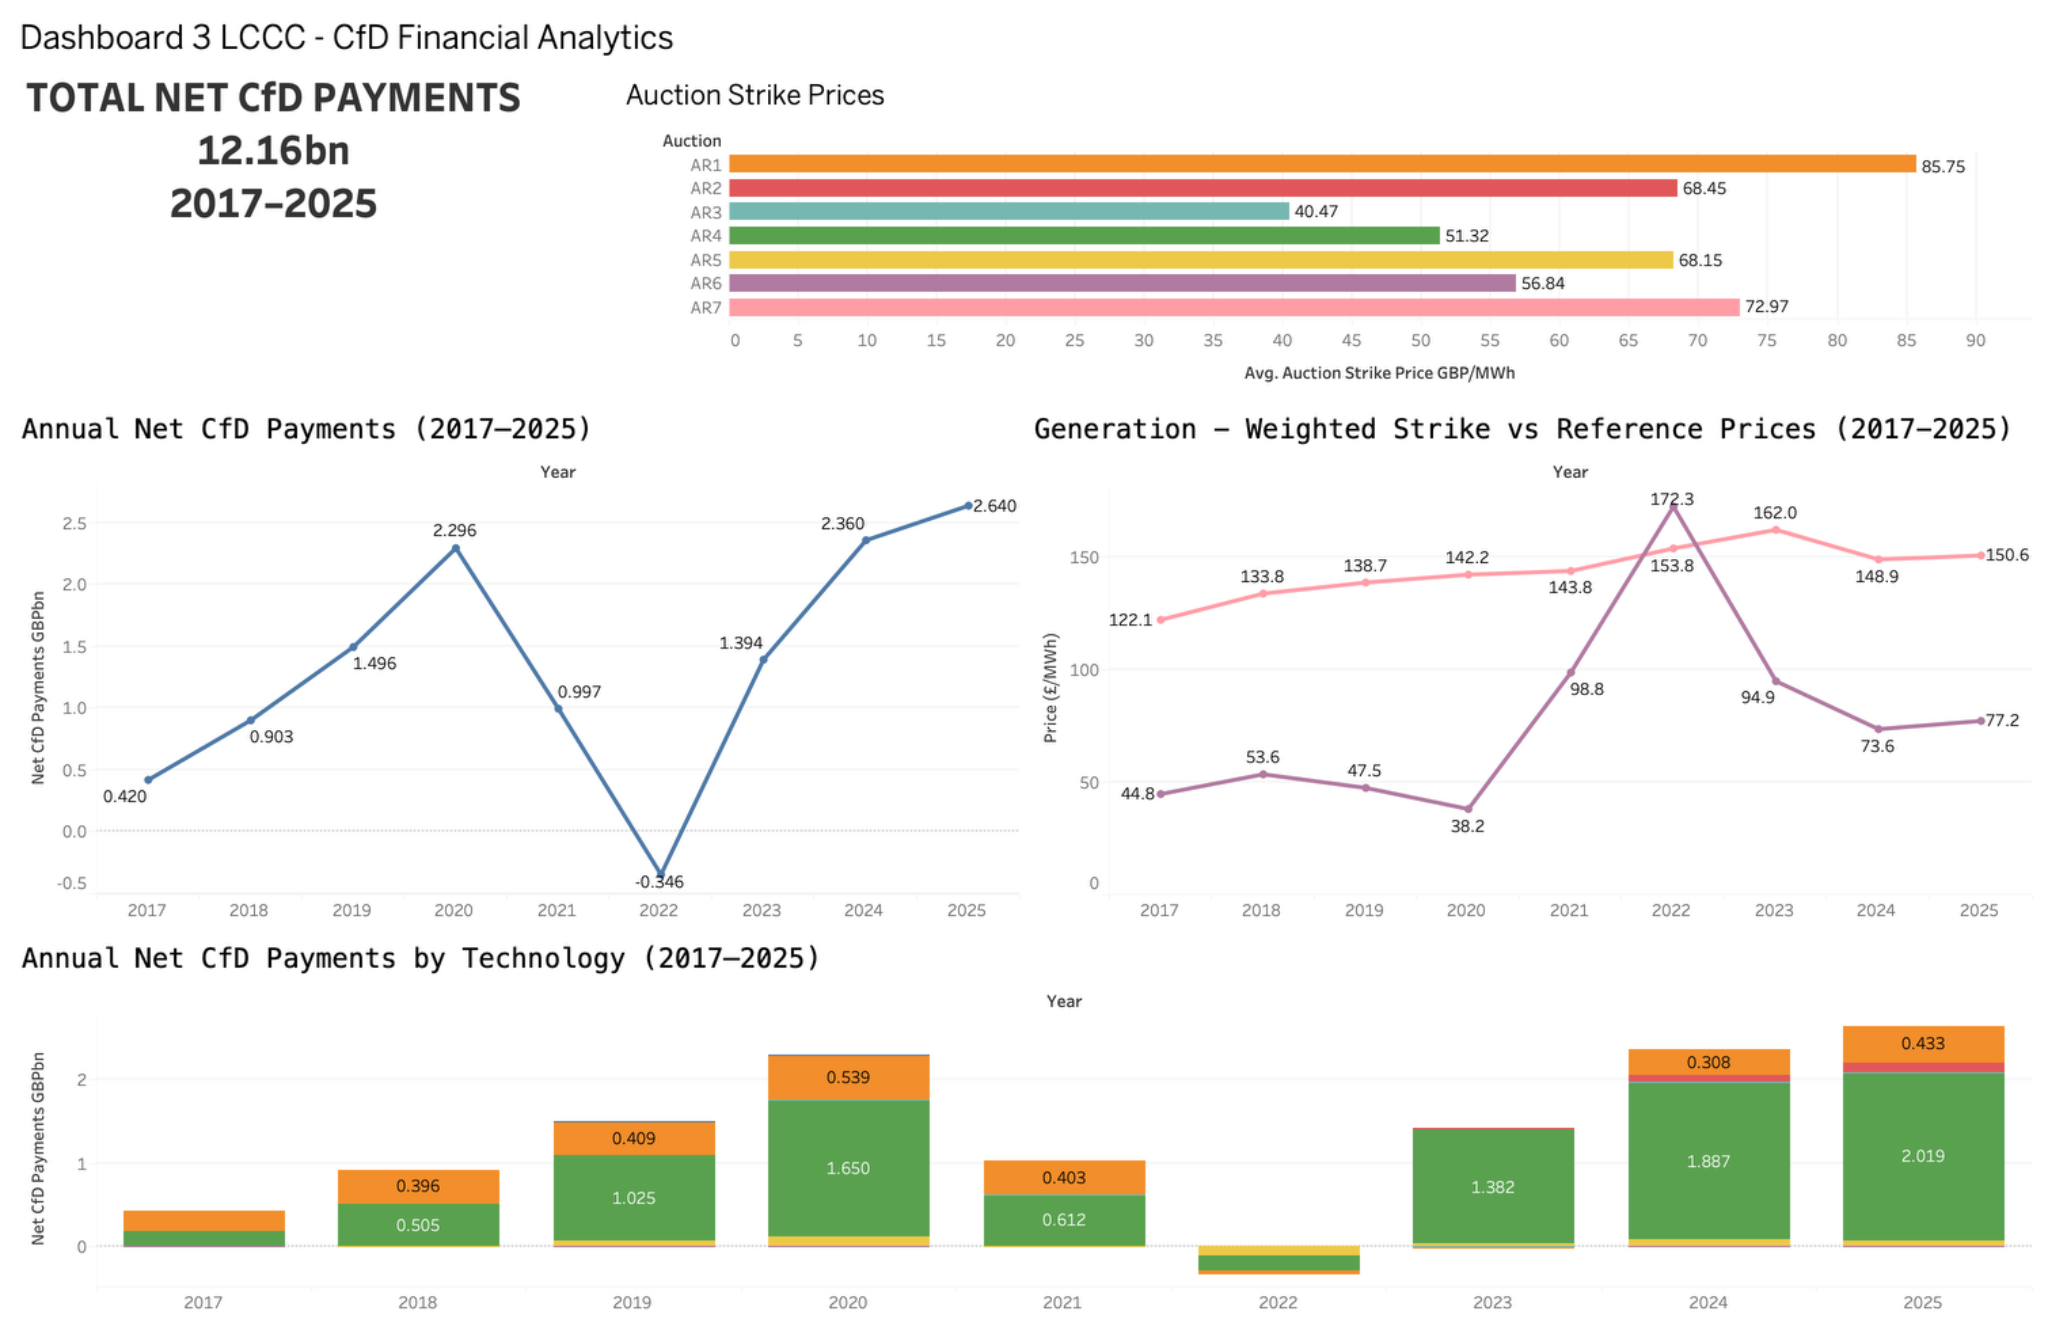

What the dashboard file says about the page in this screenshot:
{"tool":"tableau","page":{"name":"Dashboard 3: LCCC Financial Performance","canvas":[1000,1000],"units":"permille","ordinal":2},"visuals":[{"type":"title","box":[5.3,8.2,989.4,39.8]},{"type":"worksheet","title":"11 - KPI Total Net Payments","mark":"Automatic","box":[5.3,47.9,294.7,251.8]},{"type":"worksheet","title":"12 - Auction Strike Price Comparison","mark":"Bar","rows":["auction"],"cols":["Calculation_4854673351938056"],"box":[300,47.9,694.7,251.8]},{"type":"worksheet","title":"08 - Annual Net CfD Payments","mark":"Line","rows":["Calculation_4854673346322437"],"cols":["year"],"box":[5.3,299.7,494.7,397.6]},{"type":"worksheet","title":"10 - Strike vs Reference Prices","mark":"Line","cols":["year"],"box":[500,299.7,494.7,397.6]},{"type":"worksheet","title":"09 - Net Payments by Technology","mark":"Bar","rows":["Calculation_4854673346322437"],"cols":["year"],"box":[5.3,697.2,989.4,294.6]}]}

Visuals, with their boxes on the dashboard's canvas, which has no fixed pixel size, in thousandths of its width and height (x1, y1, x2, y2). These are canvas units, not pixel positions in the 2048x1331 screenshot, which may show the page scaled, cropped or inside an application window:
title: <bbox>5, 8, 995, 48</bbox>
"11 - KPI Total Net Payments" worksheet: <bbox>5, 48, 300, 300</bbox>
"12 - Auction Strike Price Comparison" worksheet (Bar marks): <bbox>300, 48, 995, 300</bbox>
"08 - Annual Net CfD Payments" worksheet (Line marks): <bbox>5, 300, 500, 697</bbox>
"10 - Strike vs Reference Prices" worksheet (Line marks): <bbox>500, 300, 995, 697</bbox>
"09 - Net Payments by Technology" worksheet (Bar marks): <bbox>5, 697, 995, 992</bbox>
